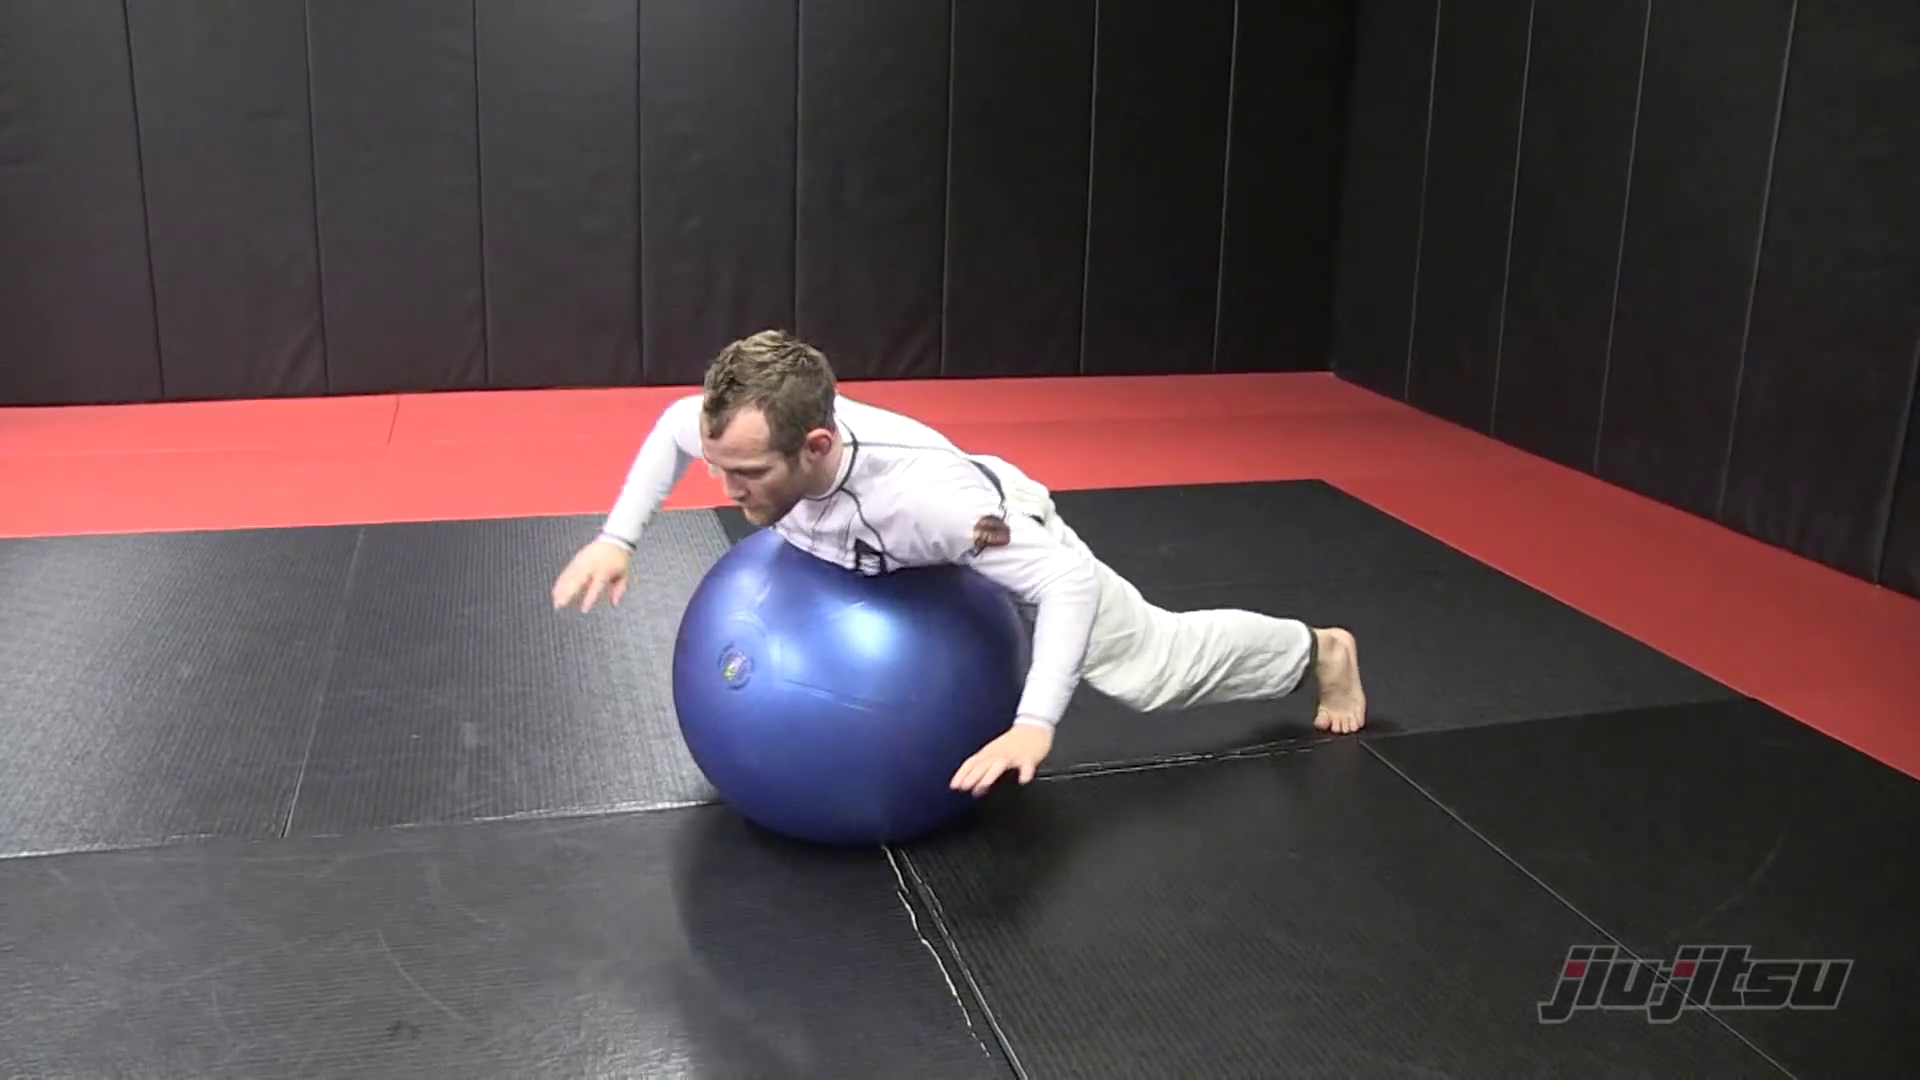yogaball: (657, 522, 1054, 870)
